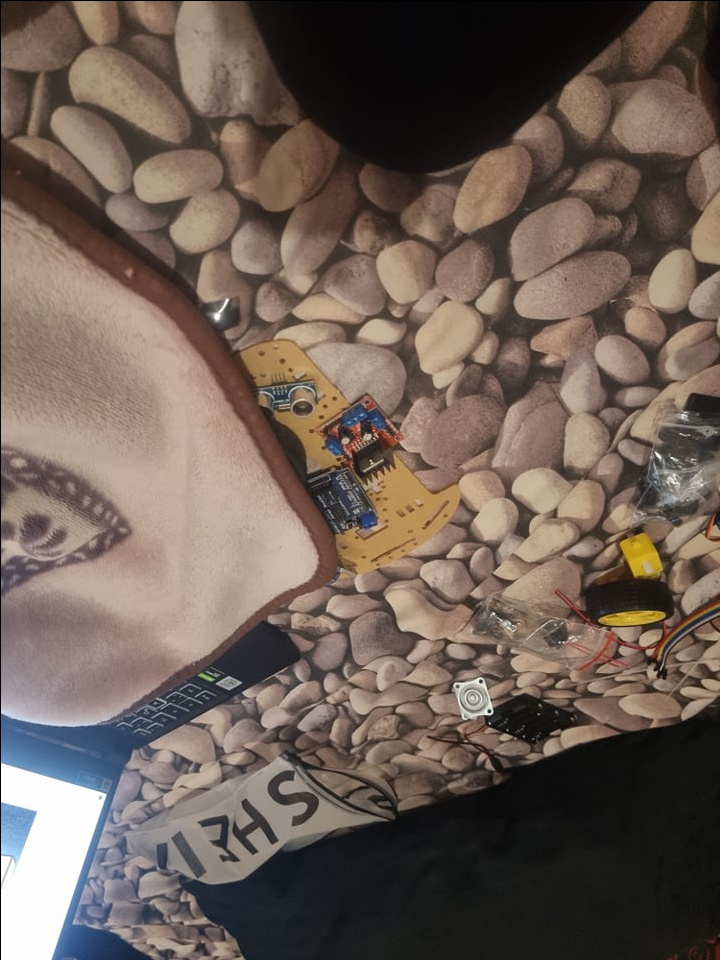5V EXPANSION: (304, 466, 378, 536)
BATTERY BOX: (487, 693, 573, 748)
MOTOR: (319, 392, 404, 482)
SENSOR: (250, 385, 317, 420)
